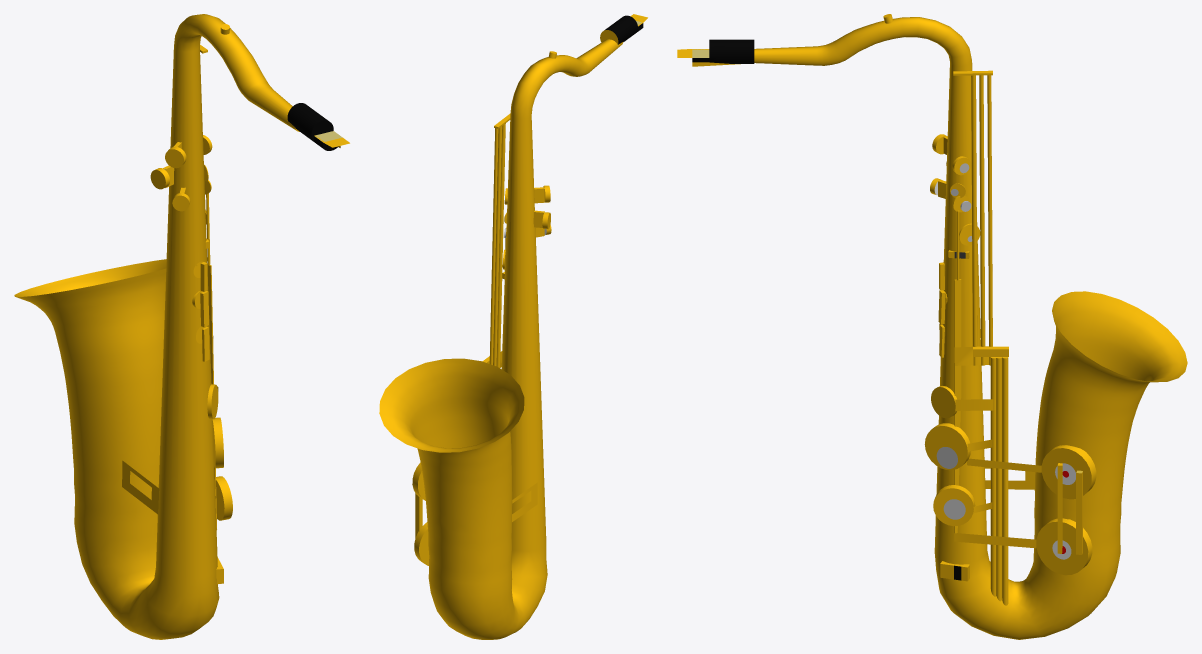
File: newSax.obj
The picture shows the model from 3 angles, left to right: view 1: azimuth 30°, elevation 25°; view 2: azimuth 150°, elevation 25°; view 3: azimuth 270°, elevation 25°; orthographic projection. The views are drawn at different scales.
Visible parts, largest first — view 1: Mesh1 OD_0_0mm_ID_150_0mm Component_7_1 Component_8_1 Saxophone1, Mesh15 Component_7_1 Component_8_1 Saxophone1 Model, Mesh7 Component_7_1 Component_8_1 Saxophone1 Model, Mesh29 Component_7_1 Component_8_1 Saxophone1 Model, Mesh25 Component_7_1 Component_8_1 Saxophone1 Model, Mesh30 Component_7_1 Component_8_1 Saxophone1 Model; view 2: Mesh1 OD_0_0mm_ID_150_0mm Component_7_1 Component_8_1 Saxophone1, Mesh34 Component_8_1 Saxophone1 Model, Mesh36 Component_8_1 Saxophone1 Model, Mesh35 Component_8_1 Saxophone1 Model, Mesh15 Component_7_1 Component_8_1 Saxophone1 Model, Mesh16 Component_7_1 Component_8_1 Saxophone1 Model, Mesh7 Component_7_1 Component_8_1 Saxophone1 Model; view 3: Mesh1 OD_0_0mm_ID_150_0mm Component_7_1 Component_8_1 Saxophone1, Mesh40 Component_8_1 Saxophone1 Model, Mesh16 Component_7_1 Component_8_1 Saxophone1 Model, Mesh2 Component_7_1 Component_8_1 Saxophone1 Model, Mesh36 Component_8_1 Saxophone1 Model, Mesh30 Component_7_1 Component_8_1 Saxophone1 Model, Mesh38 Component_8_1 Saxophone1 Model, Mesh34 Component_8_1 Saxophone1 Model, Mesh15 Component_7_1 Component_8_1 Saxophone1 Model, Mesh35 Component_8_1 Saxophone1 Model, Mesh29 Component_7_1 Component_8_1 Saxophone1 Model, Mesh39 Component_8_1 Saxophone1 Model (+2 smaller).
Boxes of the visible parts, x1=… form: Mesh1 OD_0_0mm_ID_150_0mm Component_7_1 Component_8_1 Saxophone1: x1=14, y1=14, x2=299, y2=639; Mesh15 Component_7_1 Component_8_1 Saxophone1 Model: x1=287, y1=103, x2=349, y2=150; Mesh7 Component_7_1 Component_8_1 Saxophone1 Model: x1=122, y1=460, x2=159, y2=514; Mesh29 Component_7_1 Component_8_1 Saxophone1 Model: x1=216, y1=476, x2=232, y2=520; Mesh25 Component_7_1 Component_8_1 Saxophone1 Model: x1=207, y1=265, x2=216, y2=529; Mesh30 Component_7_1 Component_8_1 Saxophone1 Model: x1=212, y1=417, x2=223, y2=468; Mesh1 OD_0_0mm_ID_150_0mm Component_7_1 Component_8_1 Saxophone1: x1=379, y1=39, x2=623, y2=639; Mesh34 Component_8_1 Saxophone1 Model: x1=496, y1=123, x2=505, y2=367; Mesh36 Component_8_1 Saxophone1 Model: x1=489, y1=128, x2=502, y2=367; Mesh35 Component_8_1 Saxophone1 Model: x1=493, y1=126, x2=502, y2=366; Mesh15 Component_7_1 Component_8_1 Saxophone1 Model: x1=600, y1=14, x2=647, y2=44; Mesh16 Component_7_1 Component_8_1 Saxophone1 Model: x1=414, y1=522, x2=429, y2=565; Mesh7 Component_7_1 Component_8_1 Saxophone1 Model: x1=512, y1=482, x2=537, y2=521; Mesh1 OD_0_0mm_ID_150_0mm Component_7_1 Component_8_1 Saxophone1: x1=754, y1=17, x2=1187, y2=639; Mesh40 Component_8_1 Saxophone1 Model: x1=955, y1=357, x2=996, y2=596; Mesh16 Component_7_1 Component_8_1 Saxophone1 Model: x1=1036, y1=518, x2=1092, y2=575; Mesh2 Component_7_1 Component_8_1 Saxophone1 Model: x1=1041, y1=445, x2=1096, y2=499; Mesh36 Component_8_1 Saxophone1 Model: x1=954, y1=75, x2=992, y2=365; Mesh30 Component_7_1 Component_8_1 Saxophone1 Model: x1=924, y1=423, x2=970, y2=470; Mesh38 Component_8_1 Saxophone1 Model: x1=1002, y1=357, x2=1008, y2=605; Mesh34 Component_8_1 Saxophone1 Model: x1=971, y1=75, x2=977, y2=365; Mesh15 Component_7_1 Component_8_1 Saxophone1 Model: x1=677, y1=39, x2=754, y2=63; Mesh35 Component_8_1 Saxophone1 Model: x1=979, y1=75, x2=985, y2=365; Mesh29 Component_7_1 Component_8_1 Saxophone1 Model: x1=933, y1=485, x2=975, y2=526; Mesh39 Component_8_1 Saxophone1 Model: x1=996, y1=357, x2=1001, y2=601.
Bounding box in the file's own units: 49.35 × 191 × 142.
